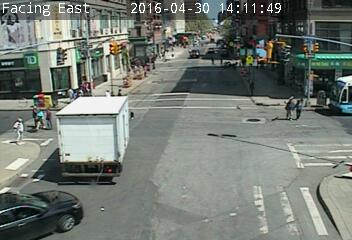neg: (321, 144, 340, 169), (264, 14, 280, 34), (18, 164, 32, 183), (84, 76, 98, 95), (60, 24, 74, 42), (136, 49, 149, 66), (215, 46, 228, 63), (316, 14, 329, 31), (19, 22, 31, 39), (109, 60, 121, 76), (177, 36, 188, 51), (202, 21, 213, 36), (138, 24, 149, 39), (100, 24, 110, 37), (162, 65, 169, 75)
pos: (8, 116, 28, 142), (281, 95, 300, 119), (292, 98, 309, 120), (41, 107, 57, 127), (31, 107, 46, 127), (61, 84, 76, 104), (246, 79, 259, 96)
